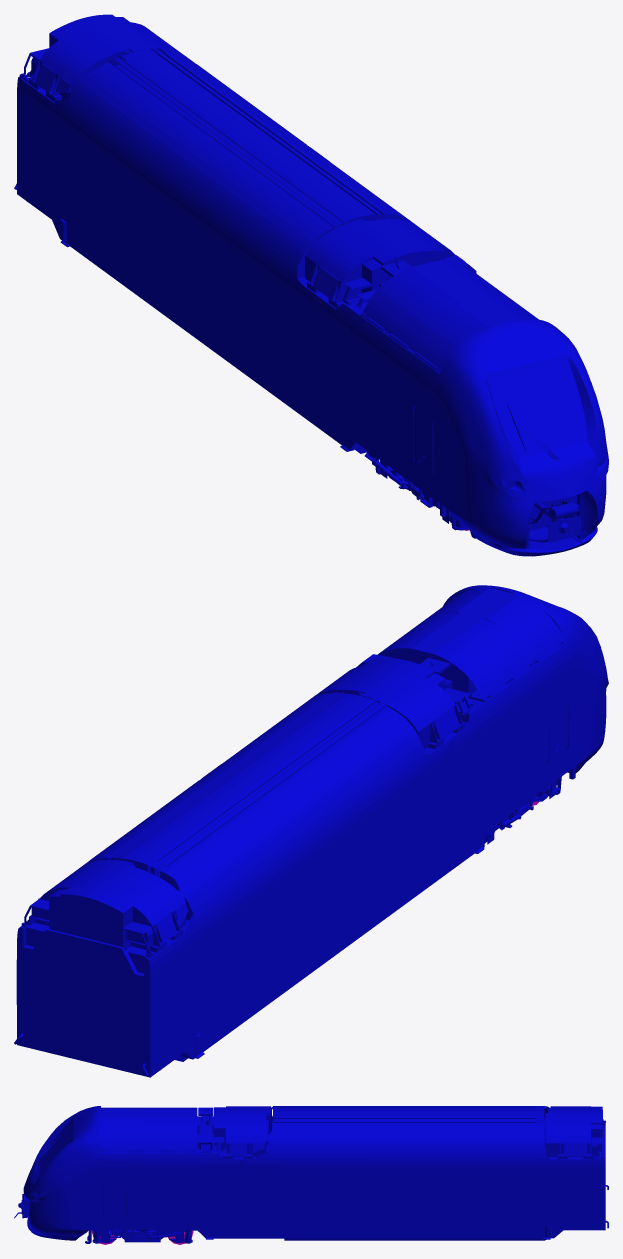
3 renders of one model, top to bottom at view 1: azimuth 30°, elevation 25°; view 2: azimuth 150°, elevation 25°; view 3: azimuth 270°, elevation 25°, orthographic. The views are drawn at different scales.
Visible parts, largest first — view 1: omneo 1.027; view 2: omneo 1.027; view 3: omneo 1.027.
Boxes of the visible parts, x1,y1,x2,y2 form: omneo 1.027: (14, 14, 608, 556); omneo 1.027: (14, 585, 608, 1077); omneo 1.027: (14, 1106, 608, 1244).
Bounding box in the file's own units: 3.1 × 4.35 × 19.19.
